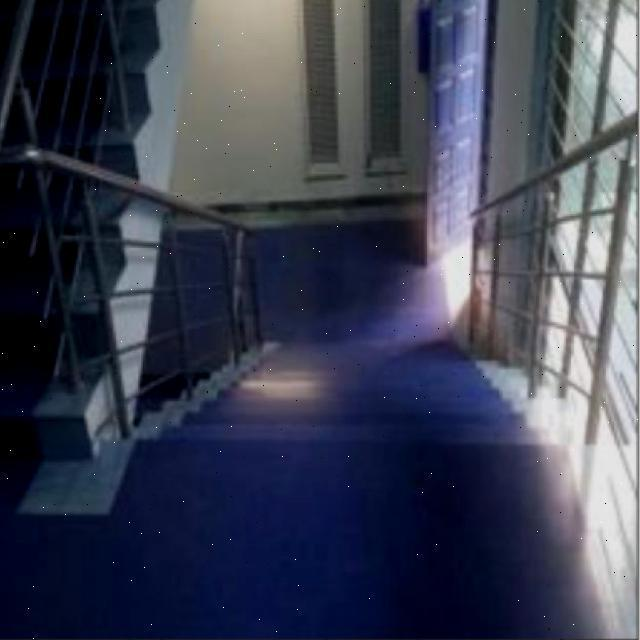stair: (183, 346, 547, 489)
